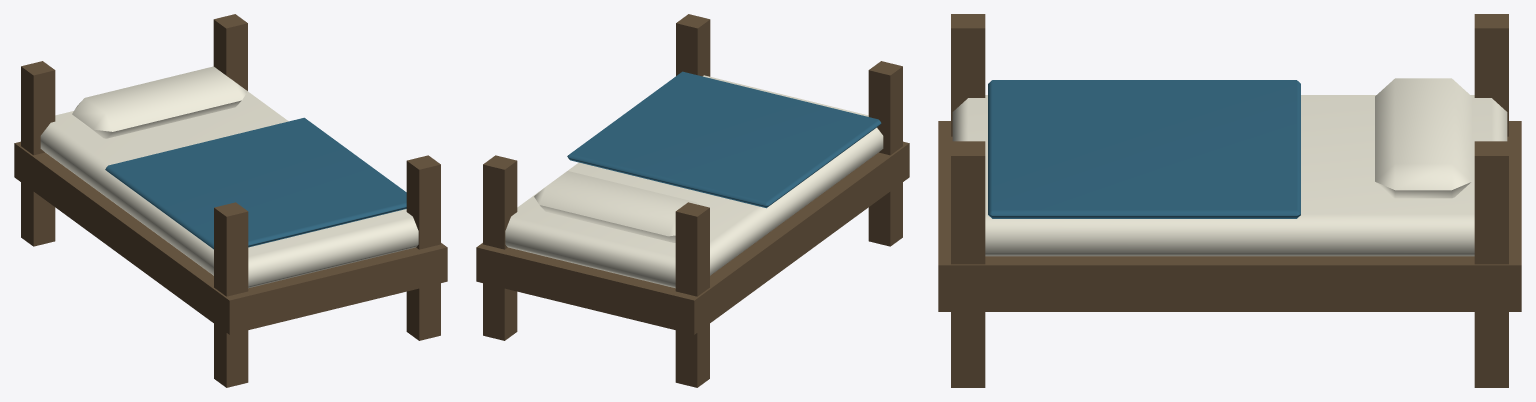
File: bed.glb
3 views of the same model, side by side, from view 1: azimuth 30°, elevation 25°; view 2: azimuth 150°, elevation 25°; view 3: azimuth 270°, elevation 25° (orthographic). The views are drawn at different scales.
Visible parts, largest first — view 1: bed frame, linen mattress, coverlet; view 2: bed frame, coverlet, linen mattress; view 3: bed frame, linen mattress, coverlet.
Boxes of the visible parts, bbox=[...] form: bed frame: bbox=[14, 14, 447, 387]; linen mattress: bbox=[40, 66, 418, 288]; coverlet: bbox=[105, 117, 406, 249]; bed frame: bbox=[476, 14, 909, 387]; coverlet: bbox=[567, 71, 881, 208]; linen mattress: bbox=[505, 75, 883, 288]; bed frame: bbox=[938, 14, 1521, 387]; linen mattress: bbox=[952, 78, 1507, 256]; coverlet: bbox=[988, 80, 1300, 218].
Size of the model in its own units: 1.2 by 0.9 by 2.05.
